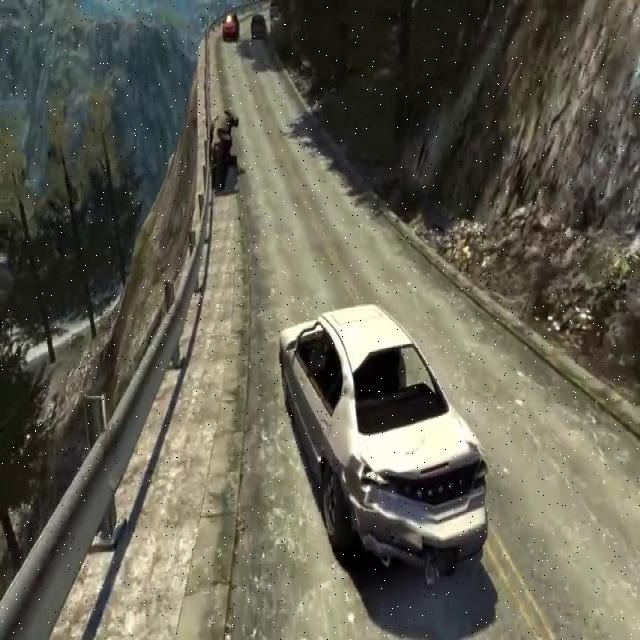severe: (206, 103, 240, 197)
